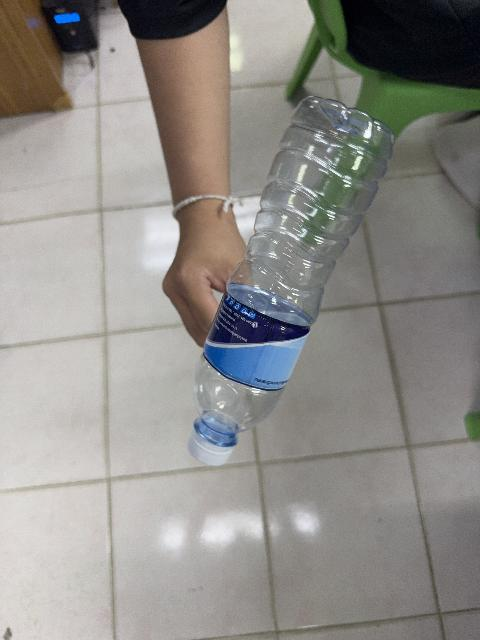bottle: (189, 97, 393, 465)
